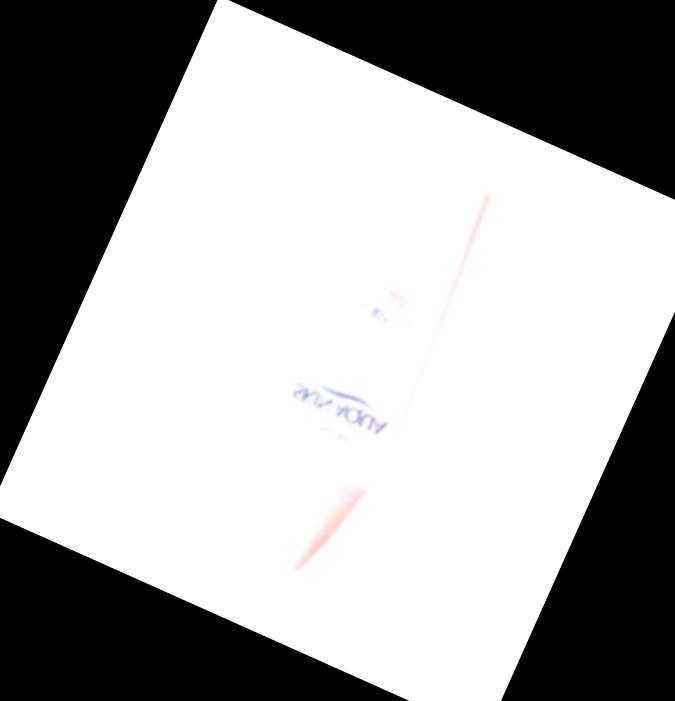cosmetic: (210, 138, 506, 593)
